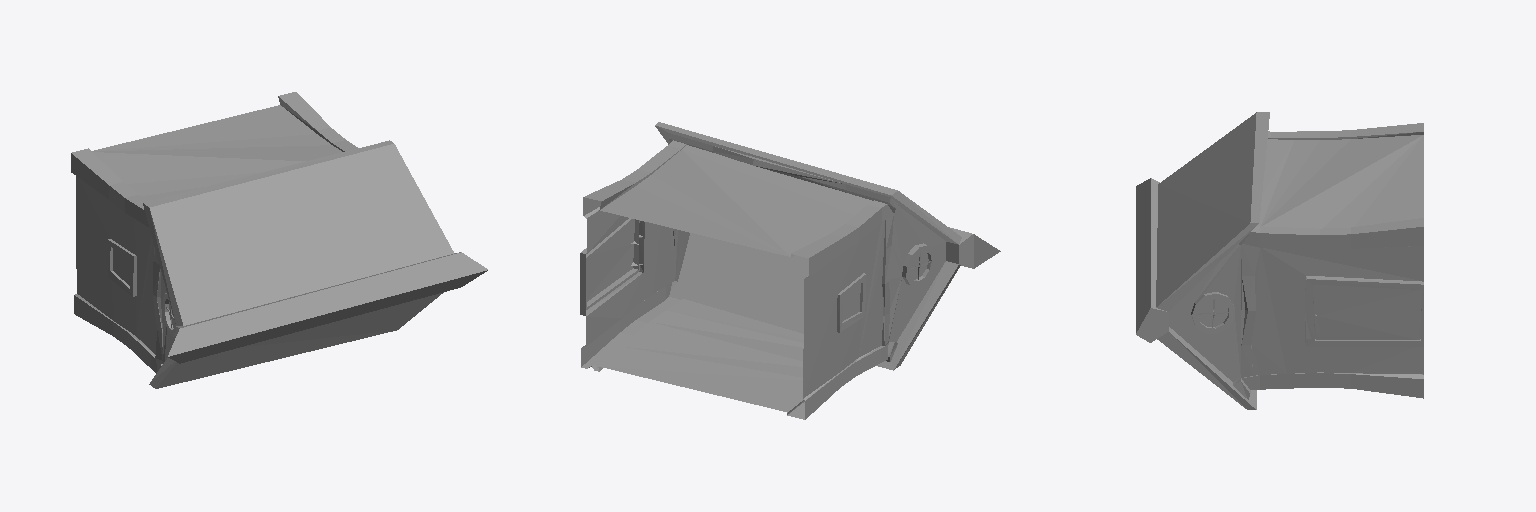
Rendered from wood_cabin.obj.
The picture shows the model from 3 angles: view 1: azimuth 30°, elevation 25°; view 2: azimuth 150°, elevation 25°; view 3: azimuth 270°, elevation 25°; orthographic projection.
Parts seen in each view (by area): view 1: wood_cabin_Cube.018; view 2: wood_cabin_Cube.018; view 3: wood_cabin_Cube.018.
Boxes of the visible parts, x1,y1,x2,y2 form: wood_cabin_Cube.018: [71, 92, 487, 388]; wood_cabin_Cube.018: [580, 122, 1000, 419]; wood_cabin_Cube.018: [1136, 112, 1423, 409].
Size of the model in its own units: 4.17 by 2.3 by 3.24.